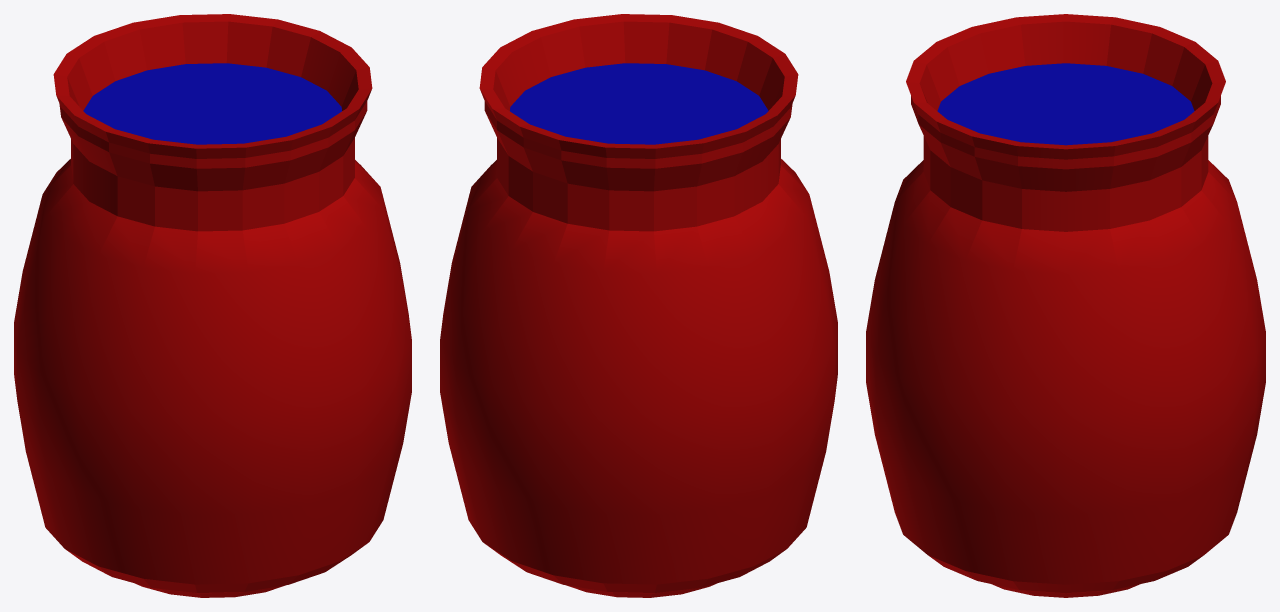
Rendered from Pot.fbx.
3 renders of one model, left to right at view 1: azimuth 30°, elevation 25°; view 2: azimuth 150°, elevation 25°; view 3: azimuth 270°, elevation 25°, orthographic.
Visible parts, largest first — view 1: pCylinder1; view 2: pCylinder1; view 3: pCylinder1.
Part boxes in pixels (x1,y1,x2,y2): pCylinder1: (14, 14, 411, 597); pCylinder1: (440, 14, 837, 597); pCylinder1: (866, 14, 1265, 597).
Size of the model in its own units: 142 by 184 by 142.
